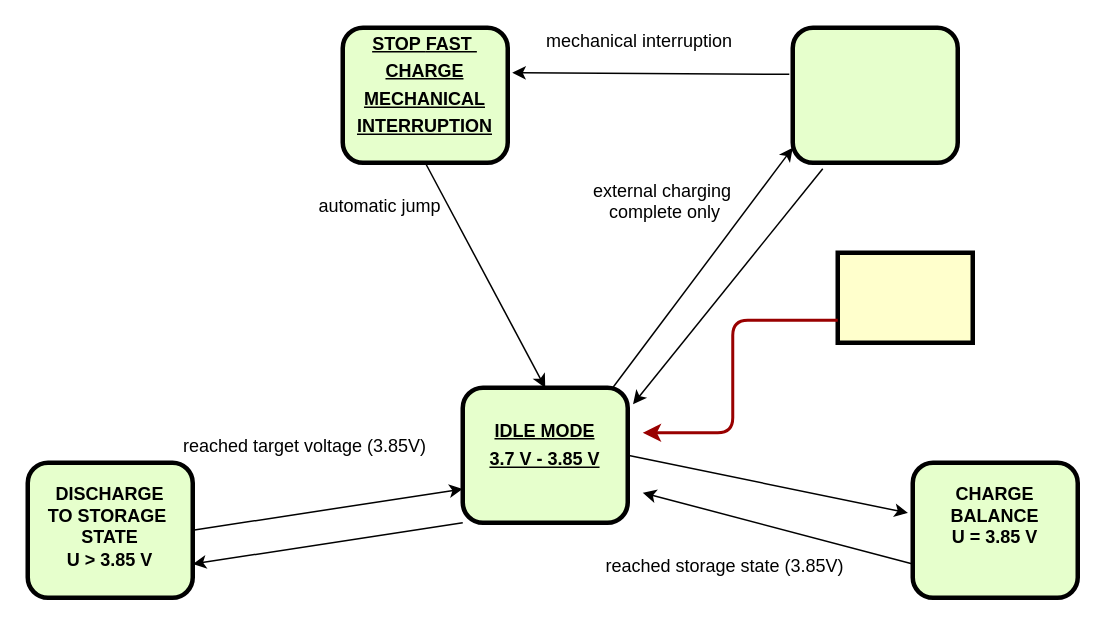
Some shapes in this 1106 by 626 pixel diagram are drawn without their labels. Here are the shapes that lost their labels. From the top down, the box of each, then its label:
(790, 25, 959, 164): FAST CHARGE TO FULL CAPACITY U = 4.2 V
(835, 250, 974, 344): REMOTE COMMAND
